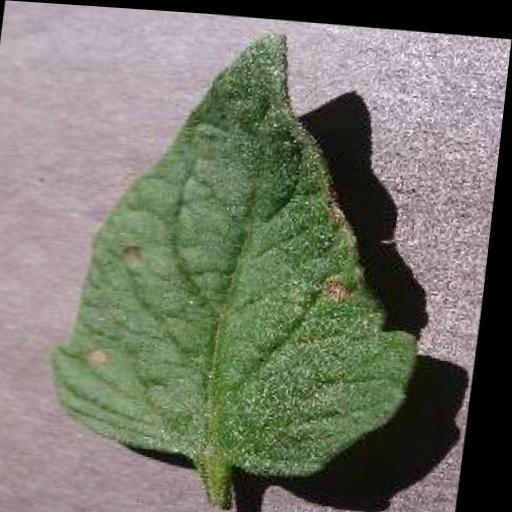Early Blight: (45, 14, 461, 512)
